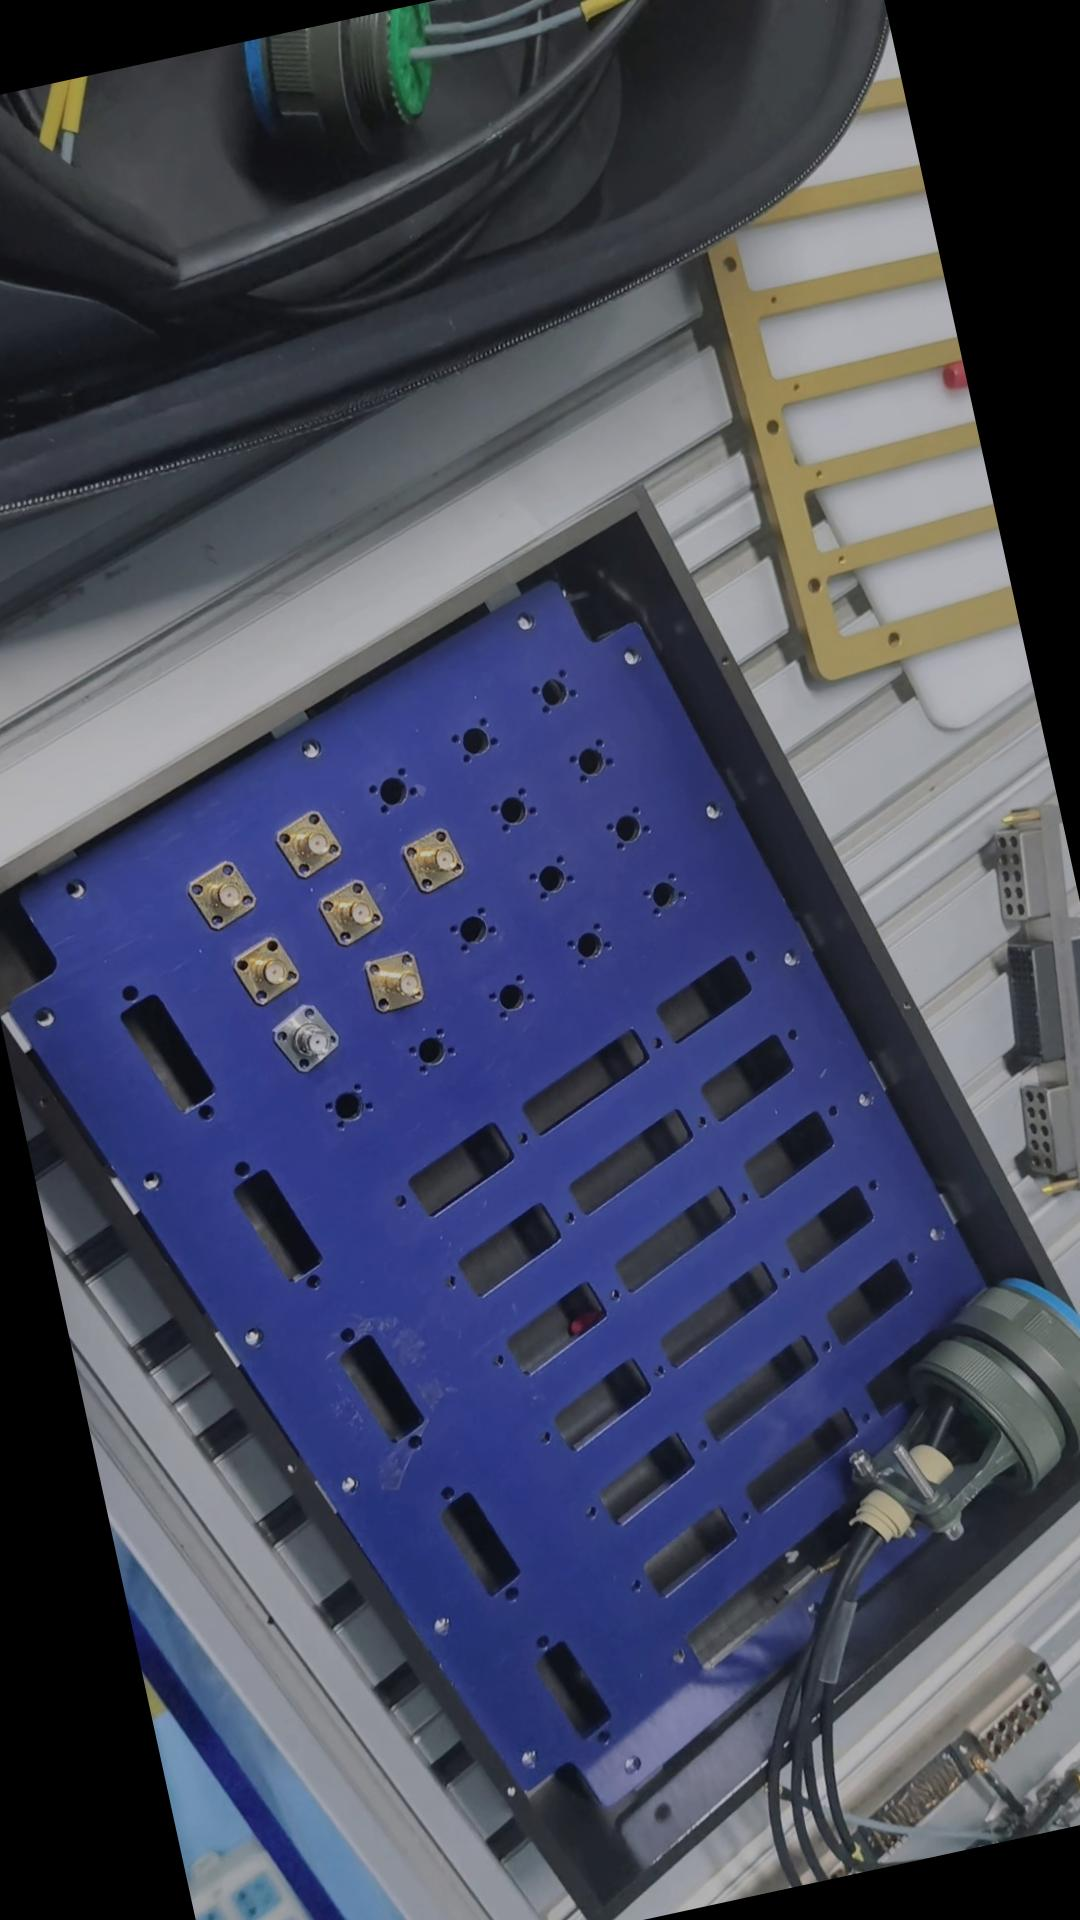SMA: (272, 800, 353, 881), (185, 849, 261, 928), (229, 928, 305, 1005), (359, 947, 438, 1019), (313, 877, 393, 947), (404, 824, 477, 898), (270, 1001, 342, 1069)
